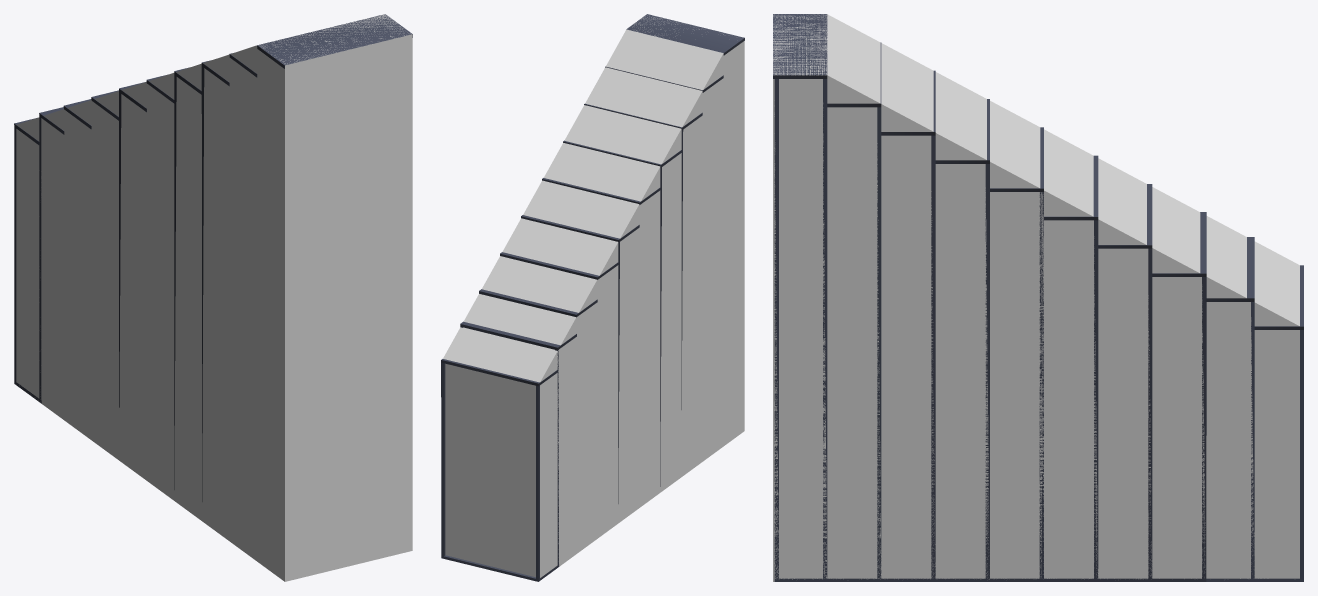
The model's file is squidgame_props_stair2.fbx.
3 views of the same model, side by side, from view 1: azimuth 30°, elevation 25°; view 2: azimuth 150°, elevation 25°; view 3: azimuth 270°, elevation 25° (orthographic). The views are drawn at different scales.
Visible parts, largest first — view 1: squidgame_props_stair2_col, squidgame_props_stair2; view 2: squidgame_props_stair2_col, squidgame_props_stair2; view 3: squidgame_props_stair2_col, squidgame_props_stair2.
Boxes of the visible parts, x1=… form: squidgame_props_stair2_col: x1=16, y1=14, x2=412, y2=581; squidgame_props_stair2: x1=14, y1=14, x2=412, y2=501; squidgame_props_stair2_col: x1=443, y1=15, x2=744, y2=577; squidgame_props_stair2: x1=441, y1=14, x2=744, y2=581; squidgame_props_stair2_col: x1=773, y1=14, x2=1299, y2=581; squidgame_props_stair2: x1=773, y1=14, x2=1303, y2=581.
Size of the model in its own units: 1.12 by 4.3 by 4.08.
